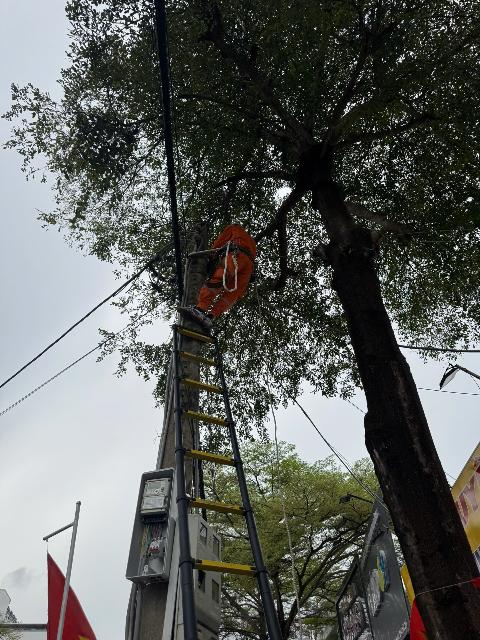harness: (213, 239, 252, 261)
helmet: (231, 221, 244, 229)
shoes: (174, 301, 205, 323), (196, 312, 215, 330)
